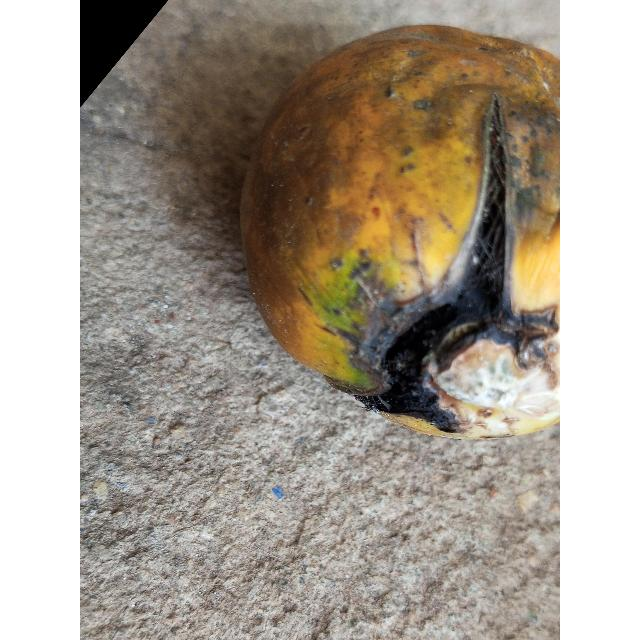damaged: (240, 24, 560, 442)
